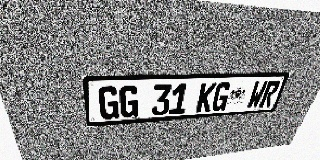1: (169, 83, 190, 115)
3: (152, 84, 172, 116)
G: (98, 86, 119, 120), (119, 85, 139, 118), (210, 82, 232, 111)
K: (195, 83, 217, 112)
R: (258, 81, 281, 108)
W: (246, 81, 268, 109)
